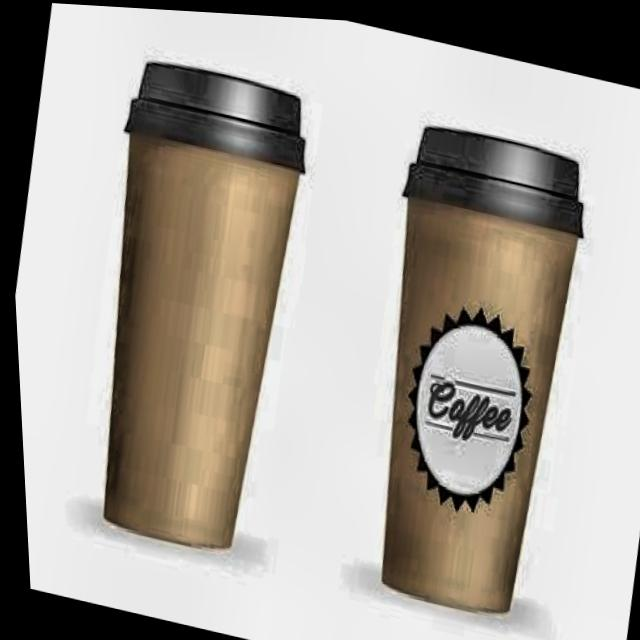Cup: (39, 45, 344, 578), (324, 109, 608, 640)
